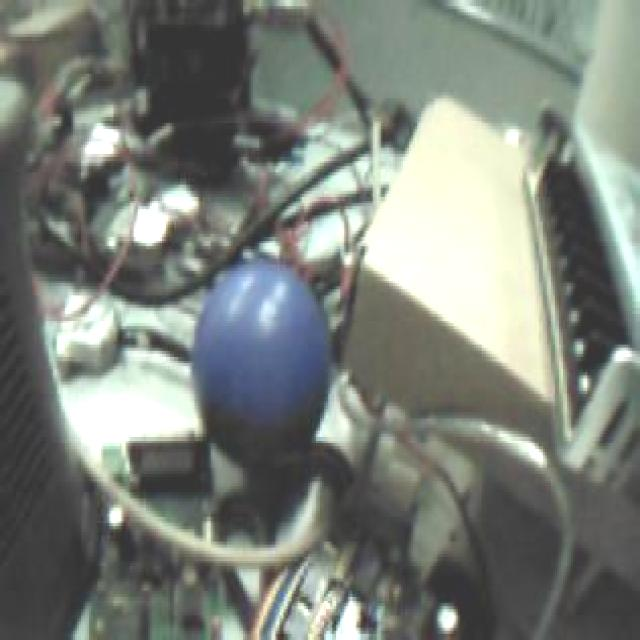BallPurple: (190, 258, 332, 472)
